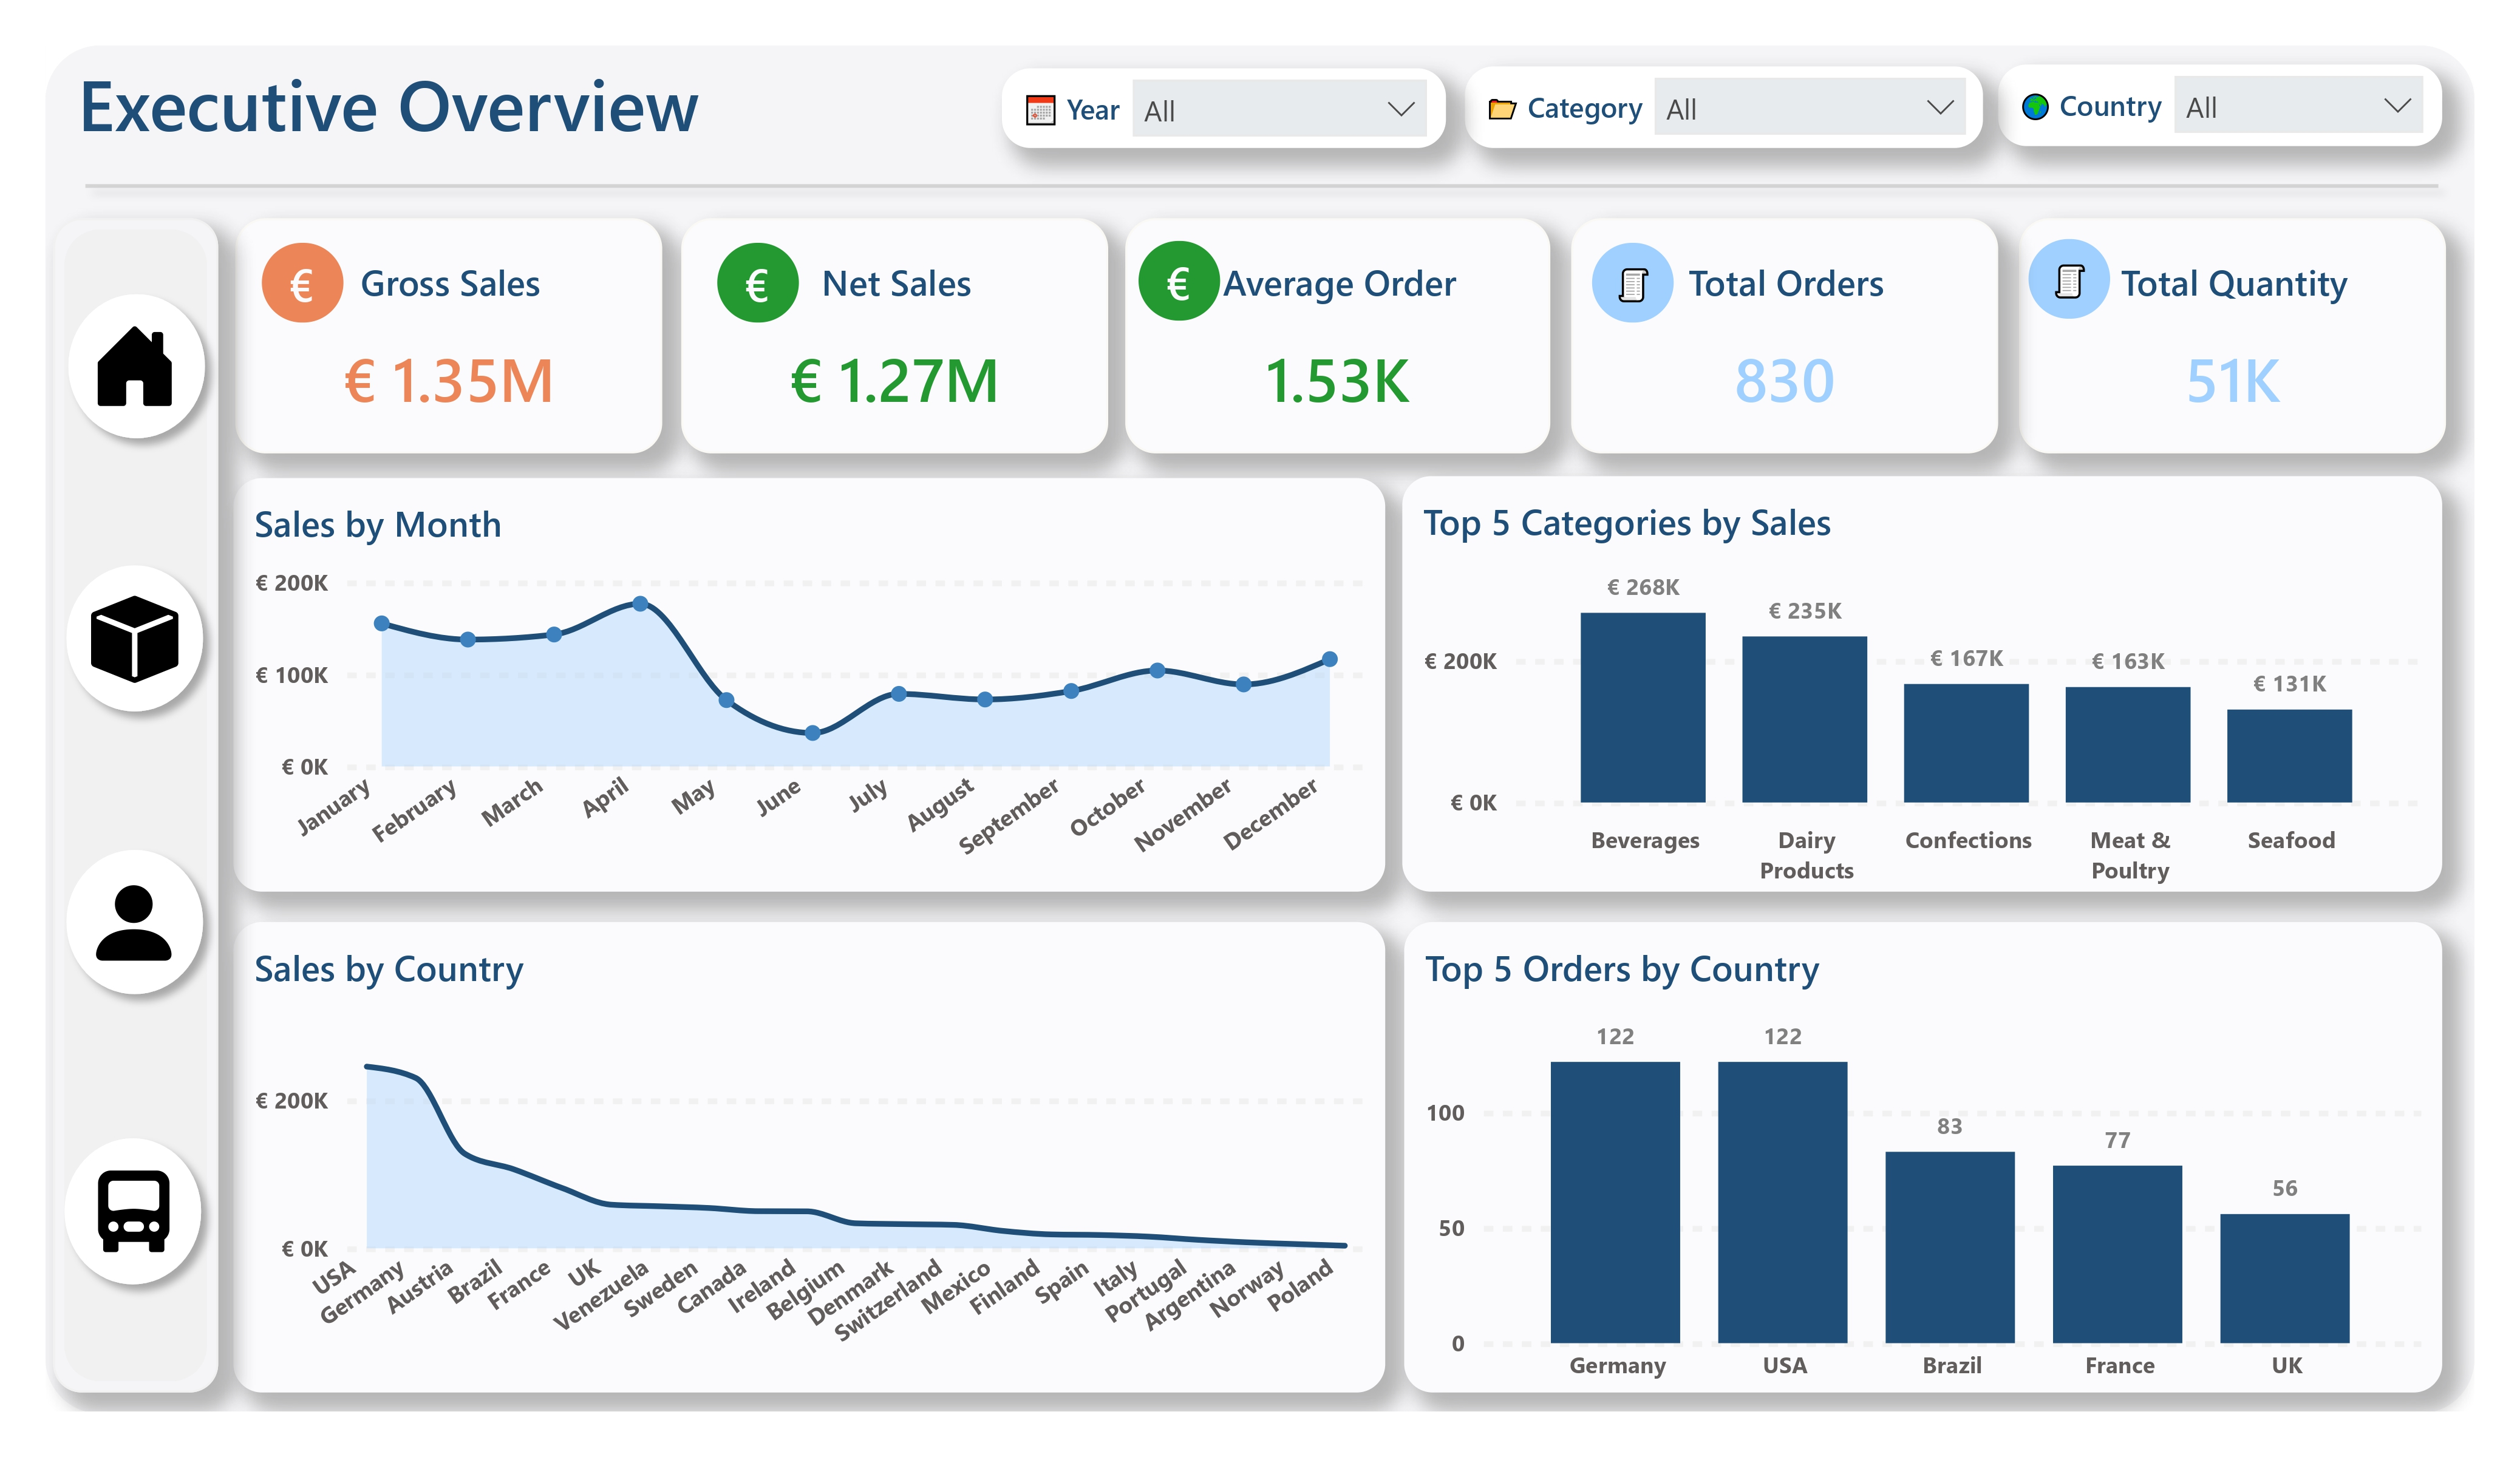

This screenshot's page, from the dashboard's own definition file:
{"tool":"powerbi","page":{"name":"Executive Overview","canvas":[1280,720],"ordinal":0},"visuals":[{"type":"shape","box":[0,0,1280,720.6],"z":0},{"type":"shape","box":[1045.6,101.3,43.3,41.7],"z":0,"group":"g10"},{"type":"shape","box":[815.2,103.4,43.3,41.7],"z":0,"group":"g8"},{"type":"shape","box":[575.8,103.6,43.3,41.7],"z":0,"group":"g6"},{"type":"shape","box":[113.2,104,43.3,41.7],"z":0,"group":"g5"},{"type":"shape","box":[353.1,104.4,43.3,41.7],"z":0,"group":"g7"},{"type":"textbox","box":[11.8,0,419.9,58.8],"z":1000},{"type":"textbox","box":[584.6,103.3,40,42.1],"z":1000,"group":"g6"},{"type":"textbox","box":[122,103.7,40,42.1],"z":1000,"group":"g5"},{"type":"textbox","box":[361.9,104.1,40,42.1],"z":1000,"group":"g7"},{"type":"textbox","box":[1052.7,107,36.2,43.8],"z":1000,"group":"g10"},{"type":"textbox","box":[822.3,109.1,36.2,43.8],"z":1000,"group":"g8"},{"type":"textbox","box":[503.8,11.8,234,41.9],"z":1500,"group":"g13"},{"type":"slicer","title":"📅 Year","fields":{"Values":["Date.Year"]},"box":[562.8,7.7,175,42.8],"z":2000,"group":"g13"},{"type":"textbox","box":[1029.2,10,234,42.5],"z":2000,"group":"g11"},{"type":"textbox","box":[748.5,10.8,273.1,43.1],"z":2000,"group":"g12"},{"type":"shape","box":[11.8,59.4,1258.2,30],"z":2000},{"type":"slicer","title":"📅 Year","fields":{"Values":["products.productName"]},"box":[1112.3,5.8,151.2,44.6],"z":3000,"group":"g11"},{"type":"group","id":"g1","title":"Group 7","box":[99.6,90.7,224.6,123.8],"z":3000},{"type":"slicer","title":"📅 Year","fields":{"Values":["products.Category"]},"box":[838.1,7.2,184.3,41.8],"z":4000,"group":"g12"},{"type":"group","id":"g2","title":"Group 6","box":[334.5,90.7,224.6,123.8],"z":4000},{"type":"group","id":"g3","title":"Group 10","box":[1040.1,90.7,224.6,123.8],"z":5000},{"type":"cardVisual","title":"Gross Sales","fields":{"Data":["order_details.Total Sales"]},"box":[99.6,90.7,224.6,123.8],"z":6000,"group":"g1"},{"type":"cardVisual","title":"Average Order","fields":{"Data":["Measure.Average Order Value"]},"box":[568.8,90.7,224.6,123.8],"z":6000},{"type":"cardVisual","title":"Total Orders","fields":{"Data":["Measure.Total Orders"]},"box":[804,90.7,224.6,123.8],"z":6000,"group":"g4"},{"type":"group","id":"g4","title":"Group 11","box":[804,90.7,224.6,123.8],"z":7000},{"type":"cardVisual","title":"Total Quantity","fields":{"Data":["Measure.Total Quantity"]},"box":[1040.1,90.7,224.6,123.8],"z":7000,"group":"g3"},{"type":"group","id":"g5","title":"Group 4","box":[113.2,103.7,49,41.8],"z":7000,"group":"g1"},{"type":"cardVisual","title":"Net Sales","fields":{"Data":["Measure.Net Sales"]},"box":[334.5,90.7,224.6,123.8],"z":8000,"group":"g2"},{"type":"group","id":"g6","title":"Group 5","box":[575.8,103.3,49.2,43.3],"z":8000},{"type":"group","id":"g7","title":"Group 5","box":[353.1,104.1,48.5,42.3],"z":9000,"group":"g2"},{"type":"areaChart","title":"Sales by Month","fields":{"Category":["Date.Month Name"],"Y":["Measure.Net Sales"]},"box":[99.4,227.5,606.2,218.9],"z":9000},{"type":"areaChart","title":"Sales by Country","fields":{"Category":["customers.country"],"Y":["Measure.Net Sales"]},"box":[99.4,462.2,606.2,247.7],"z":10000},{"type":"group","id":"g8","title":"Group 8","box":[815.2,103.4,43.3,49.5],"z":11000,"group":"g4"},{"type":"clusteredColumnChart","title":"Top 5 Categories by Sales","fields":{"Category":["products.Category"],"Y":["Measure.Net Sales"]},"box":[715.5,227.3,547.3,219.1],"z":11000},{"type":"group","id":"g9","title":"Group 8","box":[1045.6,101.3,43.3,49.2],"z":12000,"group":"g3"},{"type":"clusteredColumnChart","title":"Top 5 Orders by Country","fields":{"Category":["customers.country"],"Y":["Measure.Total Orders"]},"box":[715.7,462.2,547.2,247.7],"z":12000},{"type":"group","id":"g10","title":"Group 9","box":[1045.6,101.3,43.3,49.2],"z":12001,"group":"g9"},{"type":"group","id":"g11","title":"Group 1","box":[1029.2,5.8,234.3,46.7],"z":13000},{"type":"group","id":"g12","title":"Group 2","box":[748.5,7.2,273.9,46.6],"z":14000},{"type":"group","id":"g13","title":"Group 3","box":[503.8,7.7,234,46],"z":15000},{"type":"shape","box":[4.3,90.7,86.4,619.2],"z":16000},{"type":"shape","box":[3,122,90,94],"z":17000,"group":"g14"},{"type":"shape","box":[1.8,265.5,90,94.5],"z":17000},{"type":"image","box":[22.7,140,48.2,57.3],"z":18000,"group":"g14"},{"type":"image","box":[23.6,276.4,46.4,72.7],"z":18000},{"type":"shape","box":[1.8,414.5,90,94.5],"z":19000},{"type":"image","box":[20,433.6,52.7,56.4],"z":20000},{"type":"shape","box":[0.9,567.3,90,94.5],"z":21000},{"type":"image","box":[25.5,580.9,42.7,67.3],"z":22000},{"type":"group","id":"g14","title":"Group 12","box":[3,122,90,94],"z":23000}]}

Visuals, with their boxes on the page's 1280x720 design canvas (x1, y1, x2, y2). These are canvas units, not pixel positions in the 2520x1457 screenshot, which may show the page scaled, cropped or inside an application window:
shape: {"x1": 0, "y1": 0, "x2": 1280, "y2": 721}
shape: {"x1": 1046, "y1": 101, "x2": 1089, "y2": 143}
shape: {"x1": 815, "y1": 103, "x2": 858, "y2": 145}
shape: {"x1": 576, "y1": 104, "x2": 619, "y2": 145}
shape: {"x1": 113, "y1": 104, "x2": 156, "y2": 146}
shape: {"x1": 353, "y1": 104, "x2": 396, "y2": 146}
textbox: {"x1": 12, "y1": 0, "x2": 432, "y2": 59}
textbox: {"x1": 585, "y1": 103, "x2": 625, "y2": 145}
textbox: {"x1": 122, "y1": 104, "x2": 162, "y2": 146}
textbox: {"x1": 362, "y1": 104, "x2": 402, "y2": 146}
textbox: {"x1": 1053, "y1": 107, "x2": 1089, "y2": 151}
textbox: {"x1": 822, "y1": 109, "x2": 858, "y2": 153}
textbox: {"x1": 504, "y1": 12, "x2": 738, "y2": 54}
"📅 Year" slicer: {"x1": 563, "y1": 8, "x2": 738, "y2": 50}
textbox: {"x1": 1029, "y1": 10, "x2": 1263, "y2": 52}
textbox: {"x1": 748, "y1": 11, "x2": 1022, "y2": 54}
shape: {"x1": 12, "y1": 59, "x2": 1270, "y2": 89}
"📅 Year" slicer: {"x1": 1112, "y1": 6, "x2": 1264, "y2": 50}
"Group 7" group: {"x1": 100, "y1": 91, "x2": 324, "y2": 214}
"📅 Year" slicer: {"x1": 838, "y1": 7, "x2": 1022, "y2": 49}
"Group 6" group: {"x1": 334, "y1": 91, "x2": 559, "y2": 214}
"Group 10" group: {"x1": 1040, "y1": 91, "x2": 1265, "y2": 214}
"Gross Sales" cardVisual: {"x1": 100, "y1": 91, "x2": 324, "y2": 214}
"Average Order" cardVisual: {"x1": 569, "y1": 91, "x2": 793, "y2": 214}
"Total Orders" cardVisual: {"x1": 804, "y1": 91, "x2": 1029, "y2": 214}
"Group 11" group: {"x1": 804, "y1": 91, "x2": 1029, "y2": 214}
"Total Quantity" cardVisual: {"x1": 1040, "y1": 91, "x2": 1265, "y2": 214}
"Group 4" group: {"x1": 113, "y1": 104, "x2": 162, "y2": 146}
"Net Sales" cardVisual: {"x1": 334, "y1": 91, "x2": 559, "y2": 214}
"Group 5" group: {"x1": 576, "y1": 103, "x2": 625, "y2": 147}
"Group 5" group: {"x1": 353, "y1": 104, "x2": 402, "y2": 146}
"Sales by Month" areaChart: {"x1": 99, "y1": 228, "x2": 706, "y2": 446}
"Sales by Country" areaChart: {"x1": 99, "y1": 462, "x2": 706, "y2": 710}
"Group 8" group: {"x1": 815, "y1": 103, "x2": 858, "y2": 153}
"Top 5 Categories by Sales" clusteredColumnChart: {"x1": 716, "y1": 227, "x2": 1263, "y2": 446}
"Group 8" group: {"x1": 1046, "y1": 101, "x2": 1089, "y2": 150}
"Top 5 Orders by Country" clusteredColumnChart: {"x1": 716, "y1": 462, "x2": 1263, "y2": 710}
"Group 9" group: {"x1": 1046, "y1": 101, "x2": 1089, "y2": 150}
"Group 1" group: {"x1": 1029, "y1": 6, "x2": 1264, "y2": 52}
"Group 2" group: {"x1": 748, "y1": 7, "x2": 1022, "y2": 54}
"Group 3" group: {"x1": 504, "y1": 8, "x2": 738, "y2": 54}
shape: {"x1": 4, "y1": 91, "x2": 91, "y2": 710}
shape: {"x1": 3, "y1": 122, "x2": 93, "y2": 216}
shape: {"x1": 2, "y1": 266, "x2": 92, "y2": 360}
image: {"x1": 23, "y1": 140, "x2": 71, "y2": 197}
image: {"x1": 24, "y1": 276, "x2": 70, "y2": 349}
shape: {"x1": 2, "y1": 414, "x2": 92, "y2": 509}
image: {"x1": 20, "y1": 434, "x2": 73, "y2": 490}
shape: {"x1": 1, "y1": 567, "x2": 91, "y2": 662}
image: {"x1": 26, "y1": 581, "x2": 68, "y2": 648}
"Group 12" group: {"x1": 3, "y1": 122, "x2": 93, "y2": 216}
